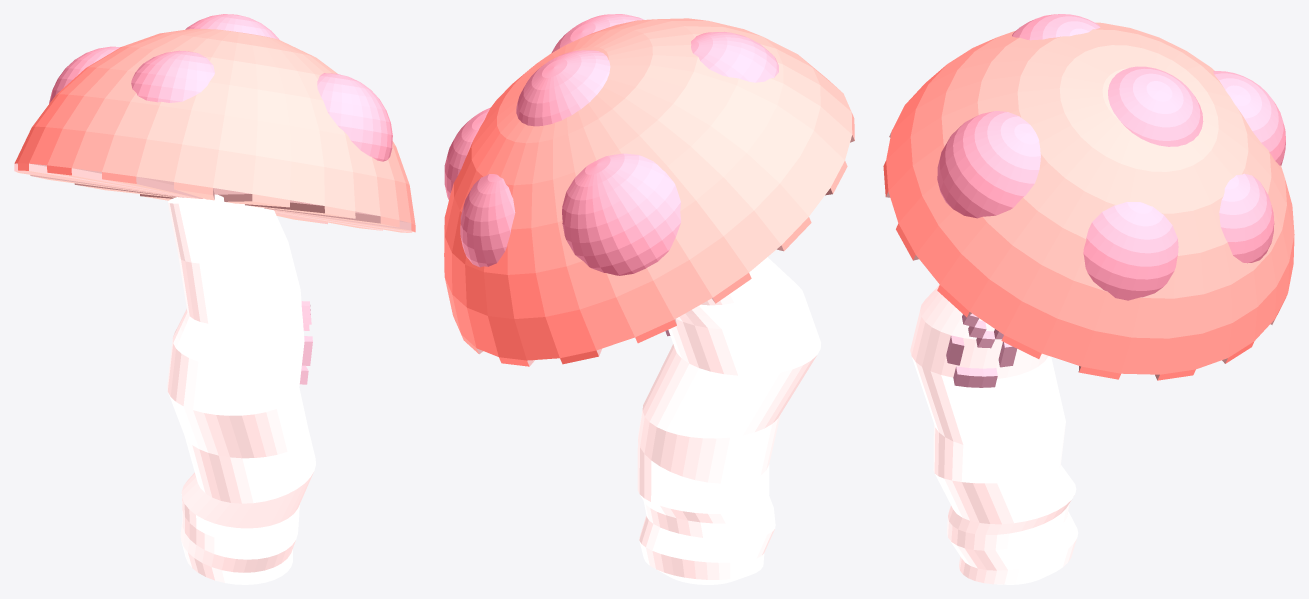
Rendered from rabidmushroom.fbx.
The picture shows the model from 3 angles, left to right: view 1: azimuth 30°, elevation 25°; view 2: azimuth 150°, elevation 25°; view 3: azimuth 270°, elevation 25°; orthographic projection. The views are drawn at different scales.
Visible parts, largest first — view 1: Cylinder.001, Cylinder, Sphere; view 2: Cylinder.001, Cylinder, Sphere; view 3: Cylinder.001, Cylinder, Sphere.
Boxes of the visible parts, <box> form: Cylinder.001: <box>14,29,415,232</box>; Cylinder: <box>167,194,315,584</box>; Sphere: <box>49,14,392,161</box>; Cylinder.001: <box>444,18,854,366</box>; Cylinder: <box>637,257,820,584</box>; Sphere: <box>444,14,778,275</box>; Cylinder.001: <box>883,22,1294,380</box>; Cylinder: <box>910,285,1078,584</box>; Sphere: <box>937,14,1285,300</box>.
Size of the model in its own units: 579 by 846 by 589.
